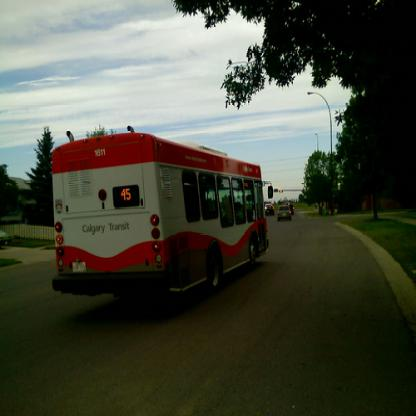bus: (47, 126, 269, 295)
car: (276, 204, 292, 220), (264, 203, 274, 216), (286, 203, 294, 213)
